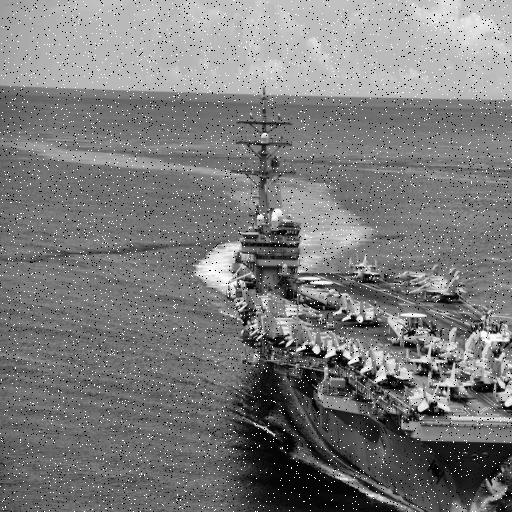Portanaves: (226, 82, 512, 512)
